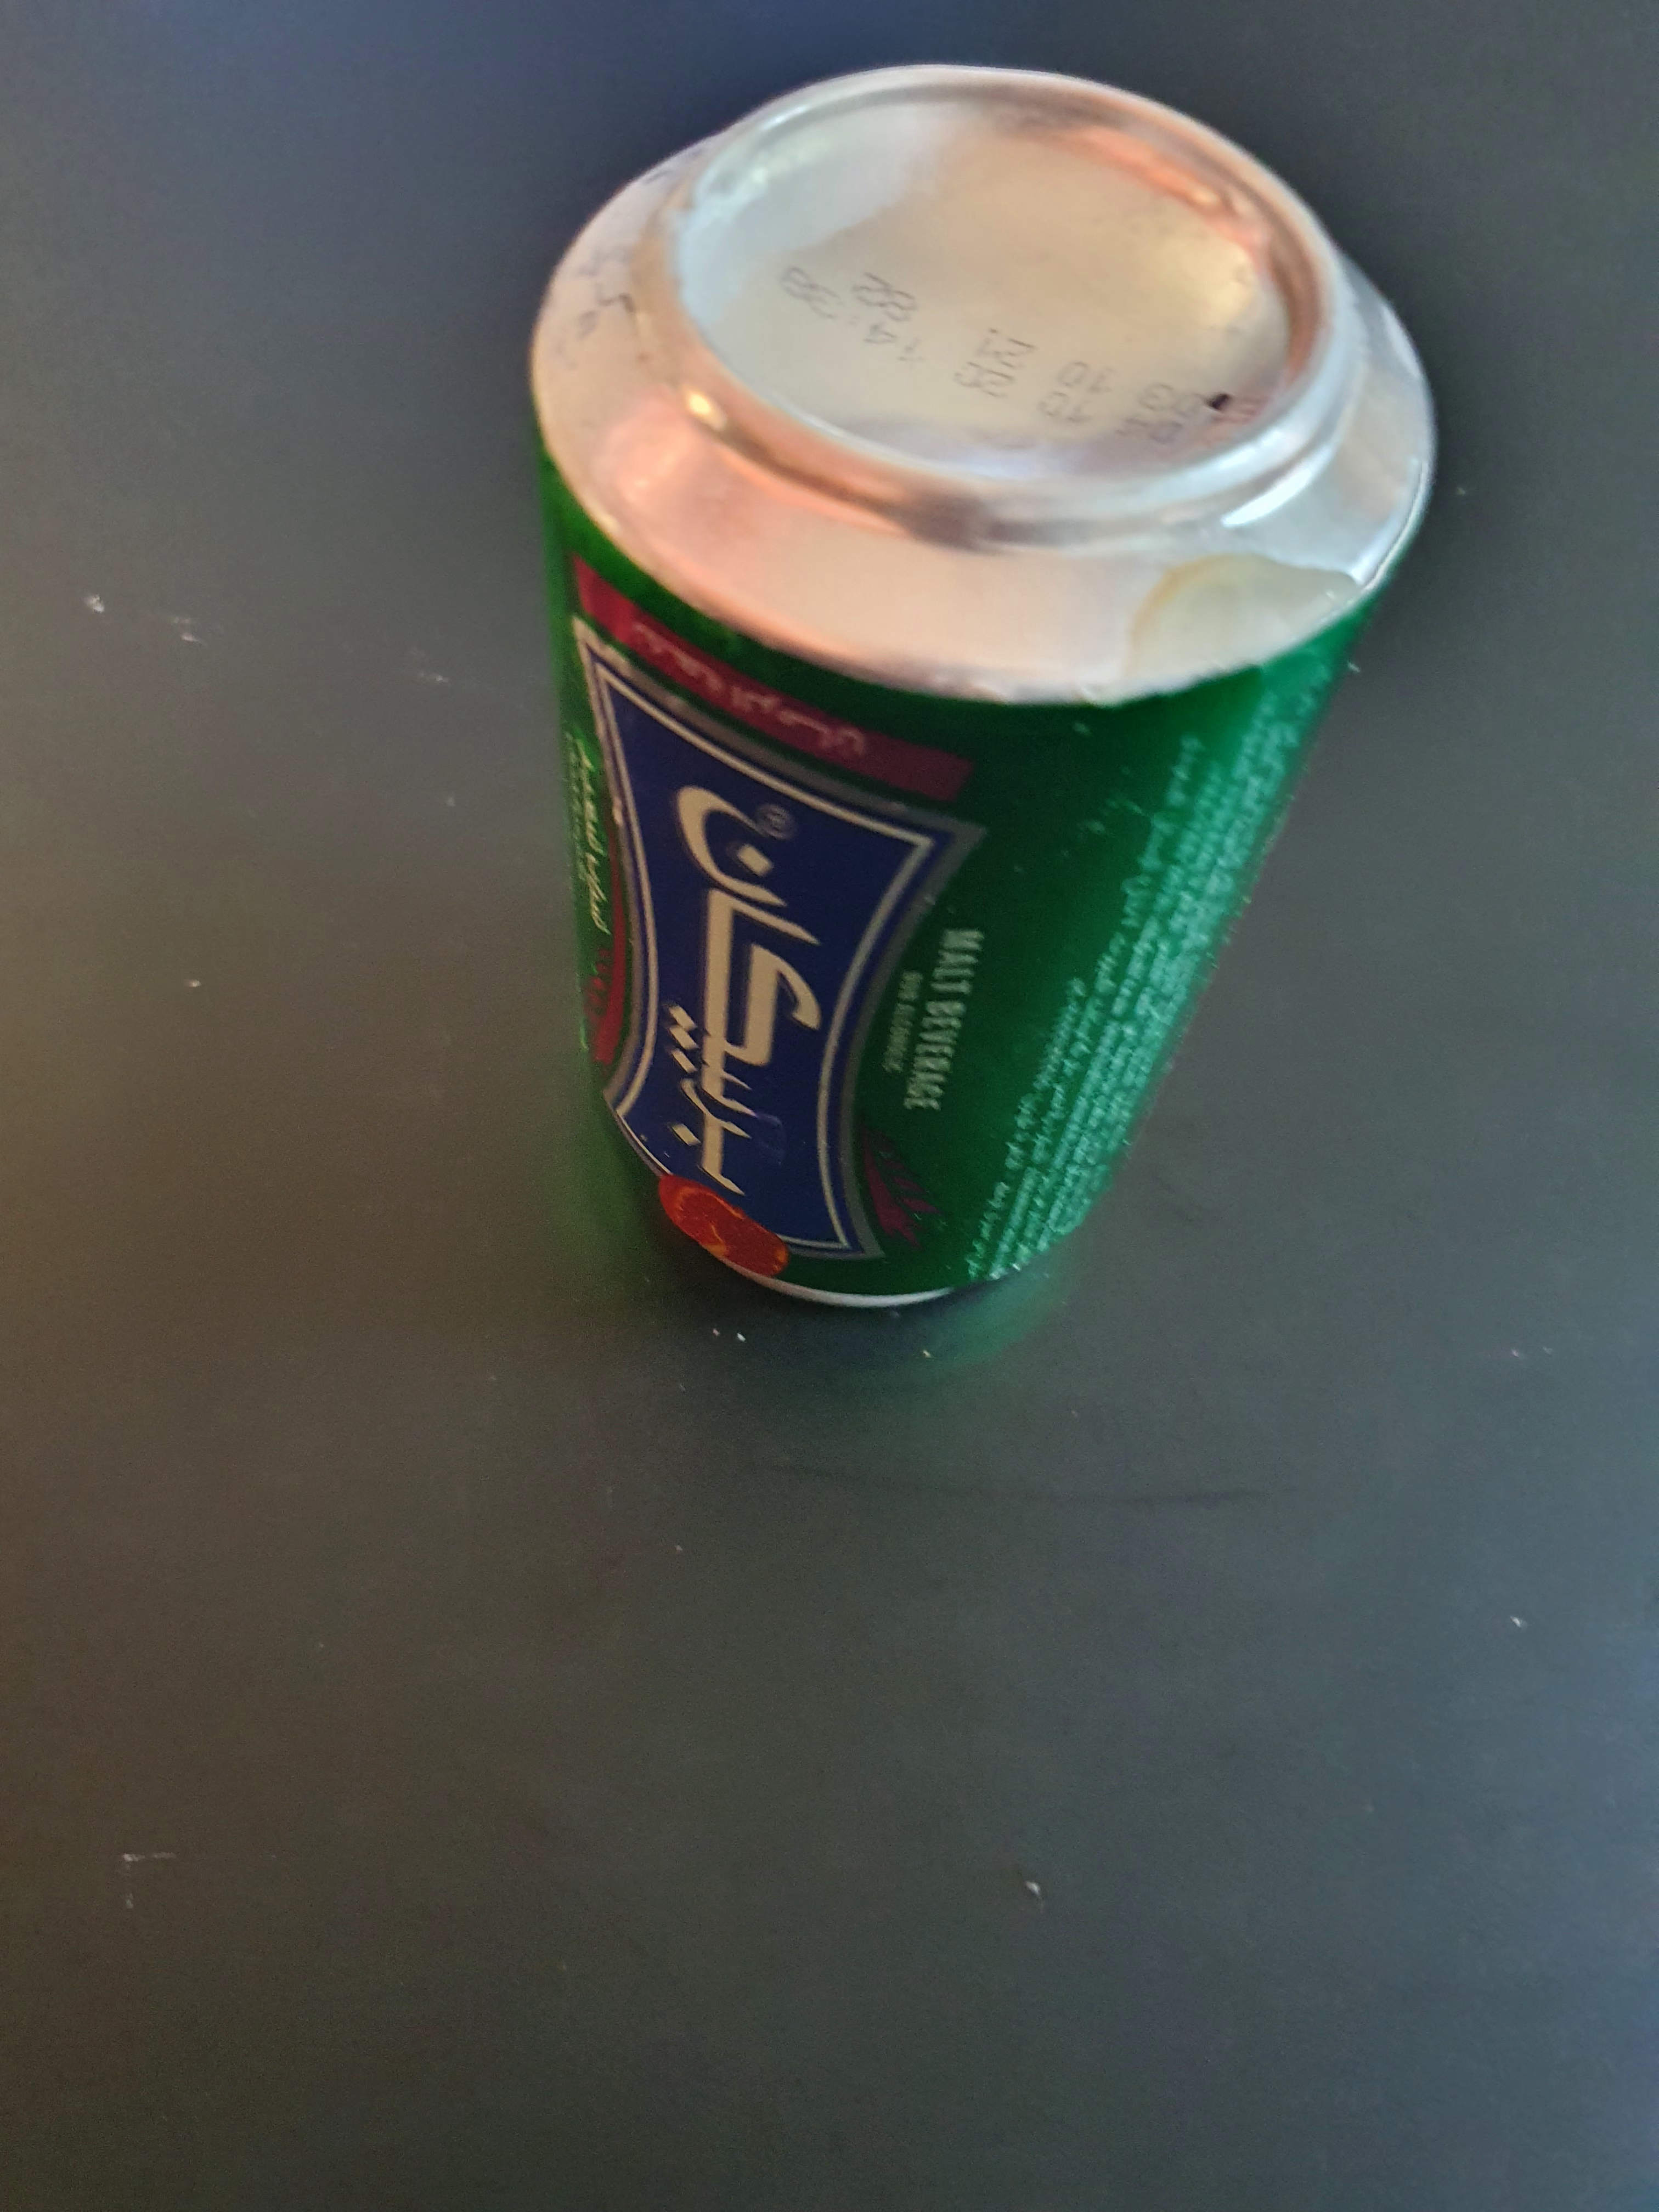metal: (479, 35, 1452, 1433)
